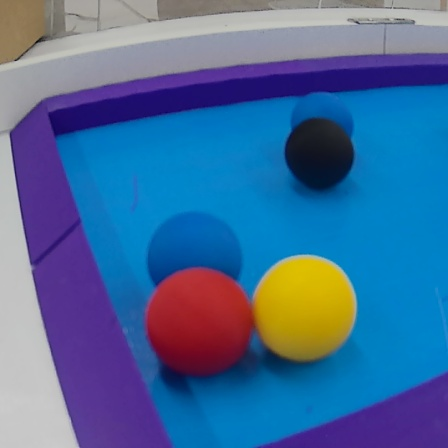black: (281, 115, 356, 197)
blue: (145, 209, 247, 298), (290, 90, 358, 153)
blue_aim: (12, 46, 448, 448)
red: (143, 265, 252, 378)
yellow: (247, 250, 359, 365)
